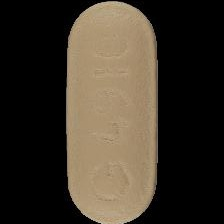59762-4910: (0, 0, 224, 224)
